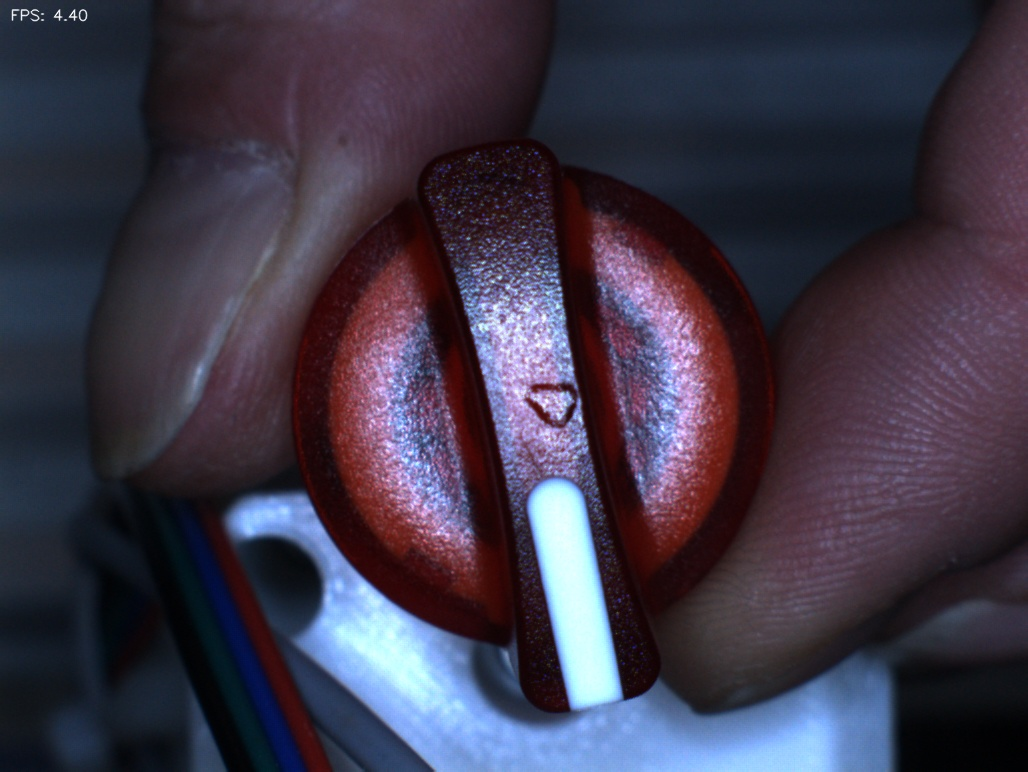Choc: (507, 357, 597, 447)
